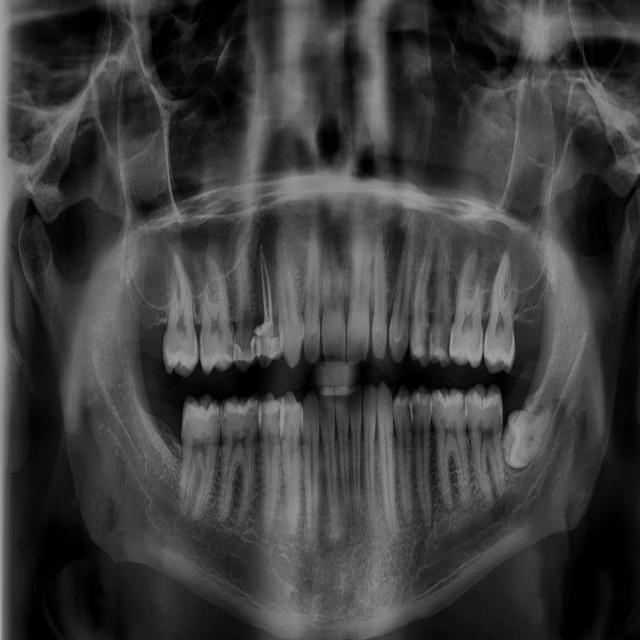Caries: (247, 415, 258, 448), (224, 328, 235, 360)
Crown: (255, 322, 281, 358), (234, 336, 257, 369)
Root Canal Treatment: (262, 246, 273, 321), (260, 245, 268, 322)
impacted tooth: (503, 393, 555, 468)
